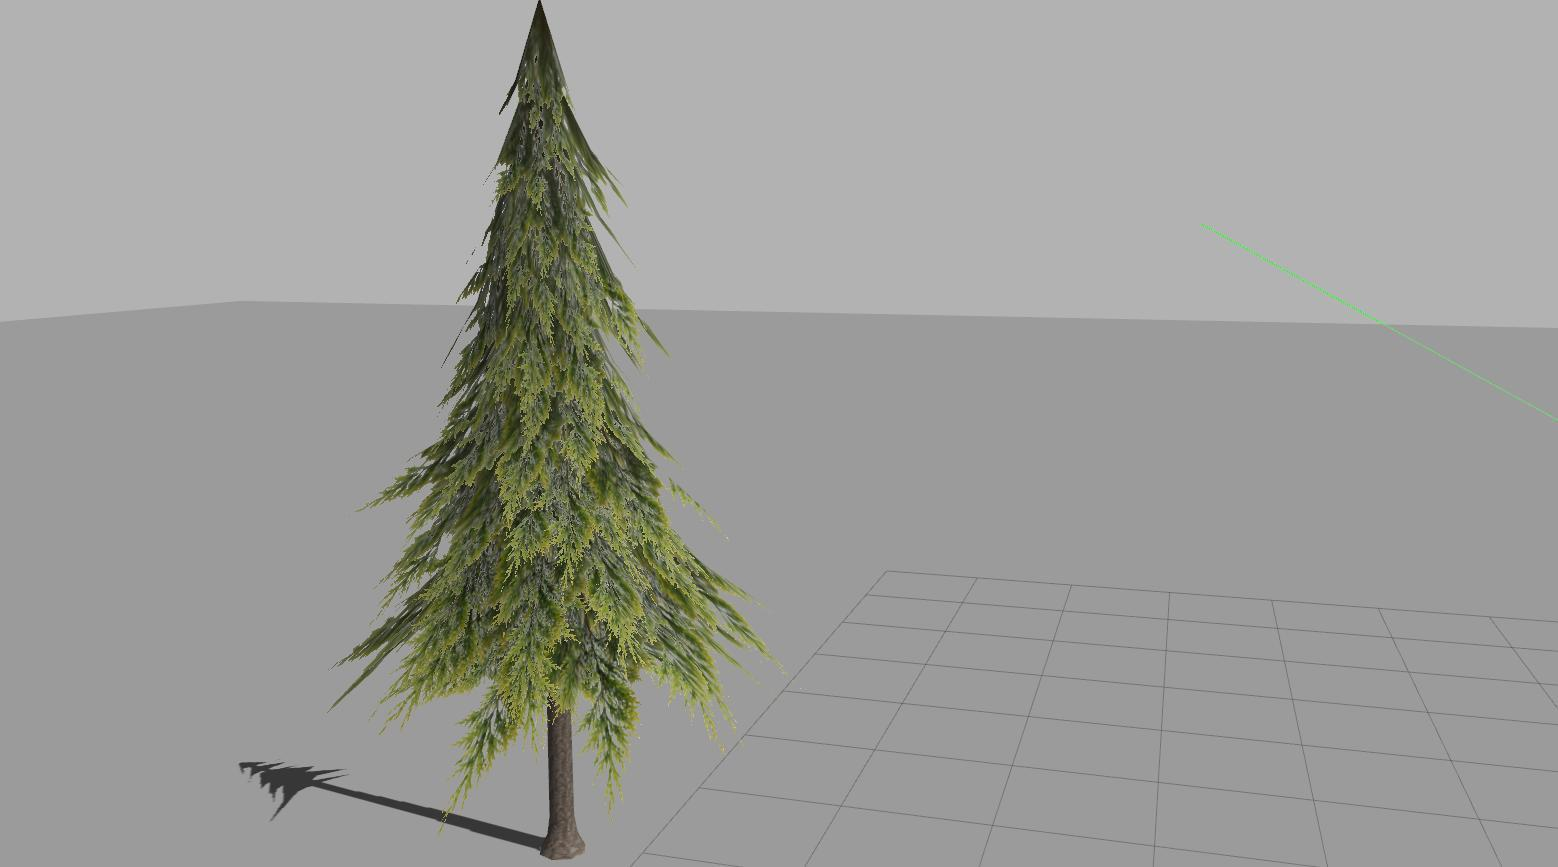tree_gazebo: (340, 6, 764, 862)
